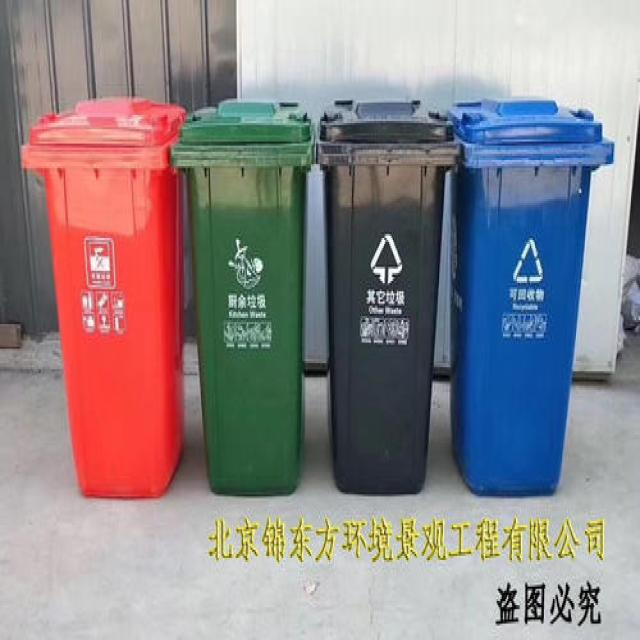garbage_bin: (19, 96, 187, 498), (446, 97, 613, 494), (169, 99, 315, 496), (315, 96, 458, 492)
